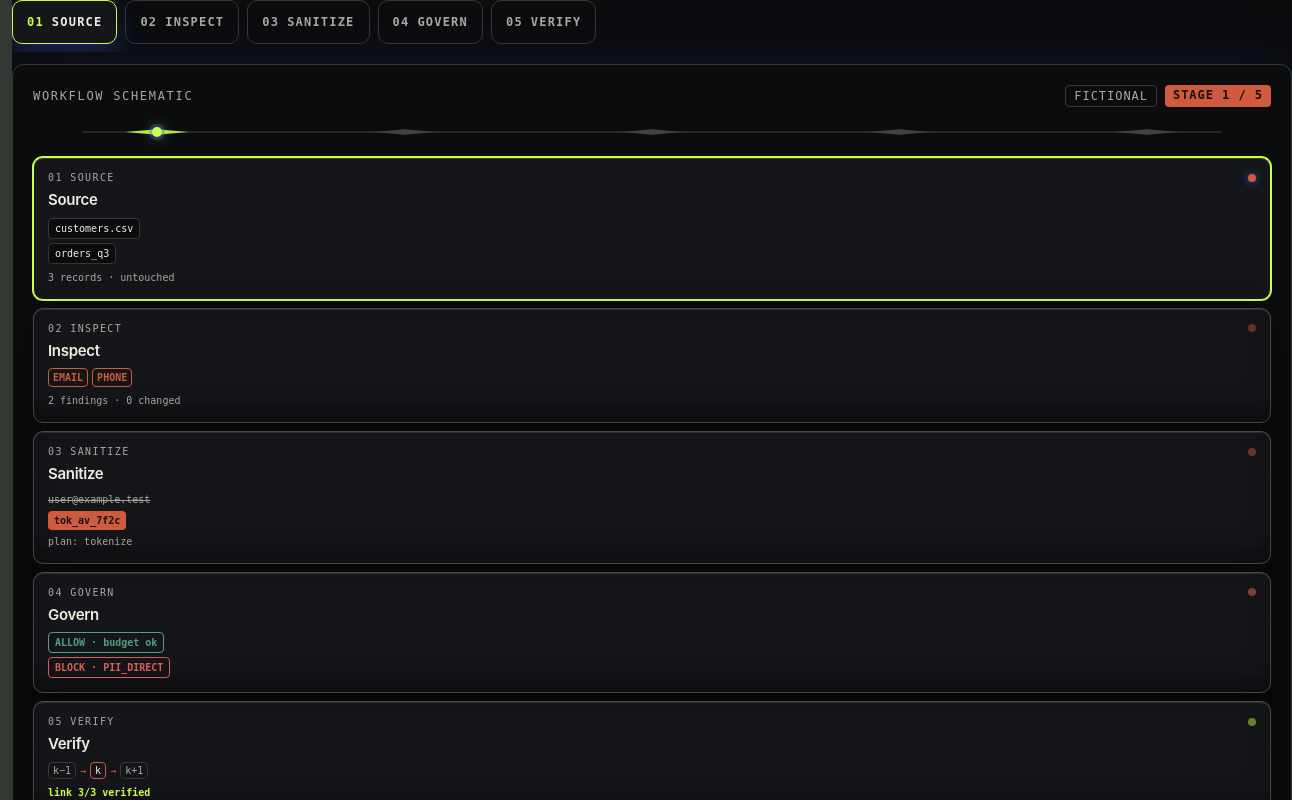
Scenario: workflow folding card (Phase 3G) › starts on Source and updates schematic plus explanation in place
The image size is (1292, 800).
Tapping a stage must not move the page.
Click the button with aria-label "stage 05" at (544,22), box [491, 0, 596, 44]
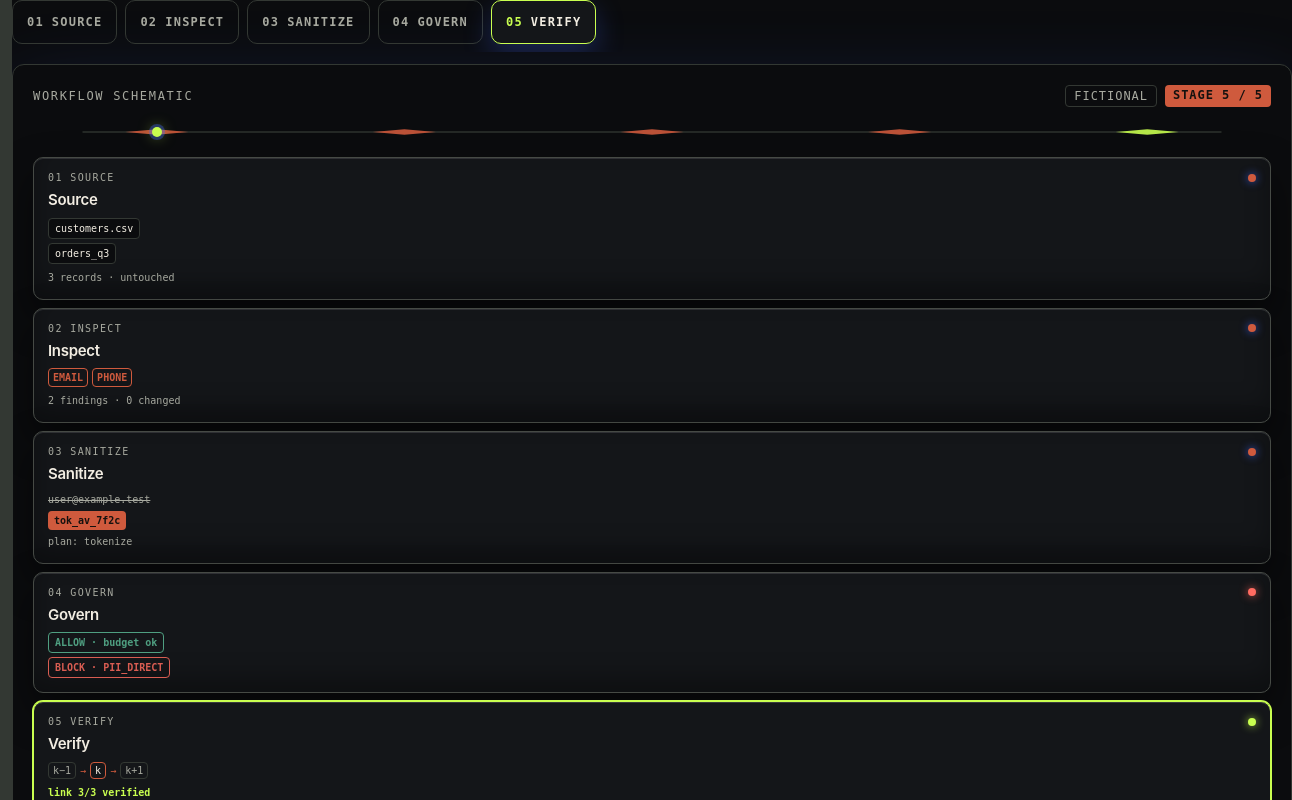
expect the text "link 3/3 verified" is shown: met, box [48, 786, 150, 798]
Click the button with aria-label "stage 03" at (308,22), box [247, 0, 370, 44]
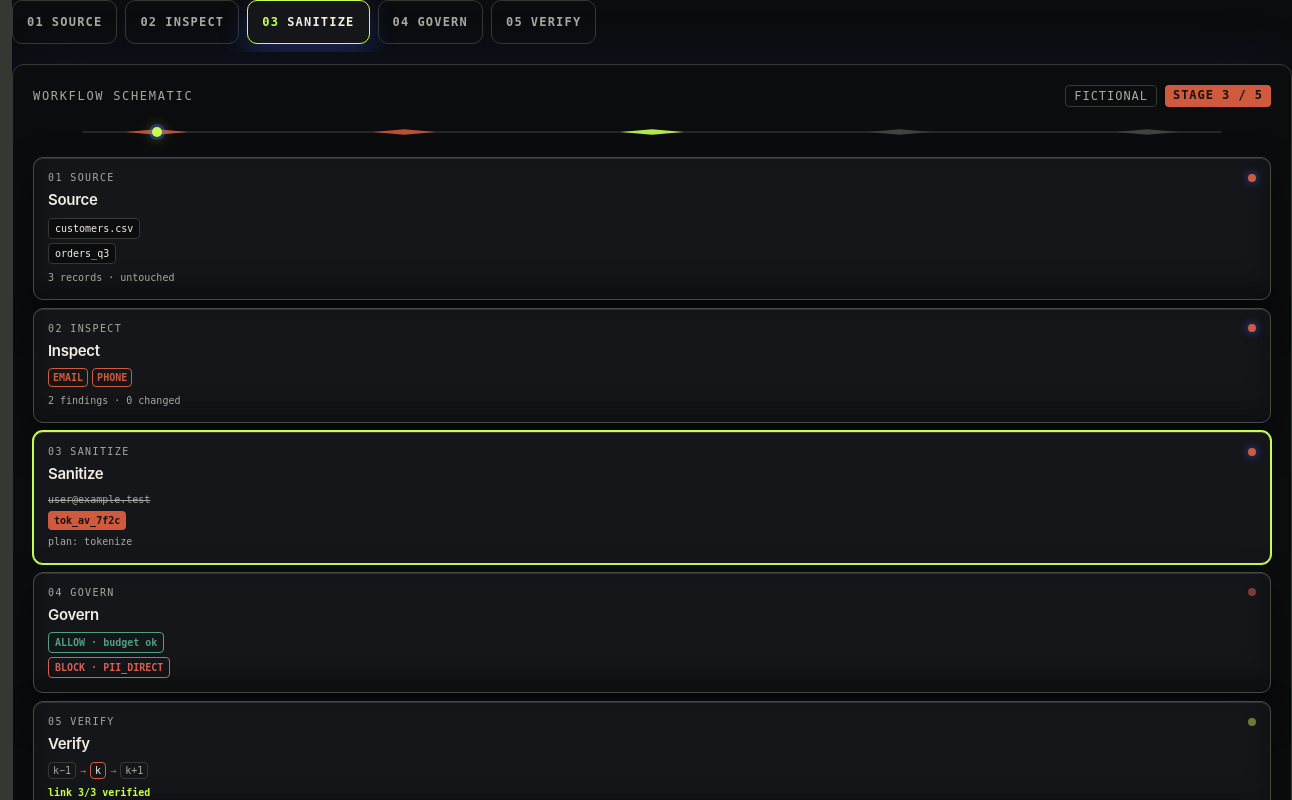
expect the text "tok_av_7f2c" is shown: met, box [48, 510, 126, 530]
Click the button with aria-label "stage 04" at (430,22), box [378, 0, 483, 44]
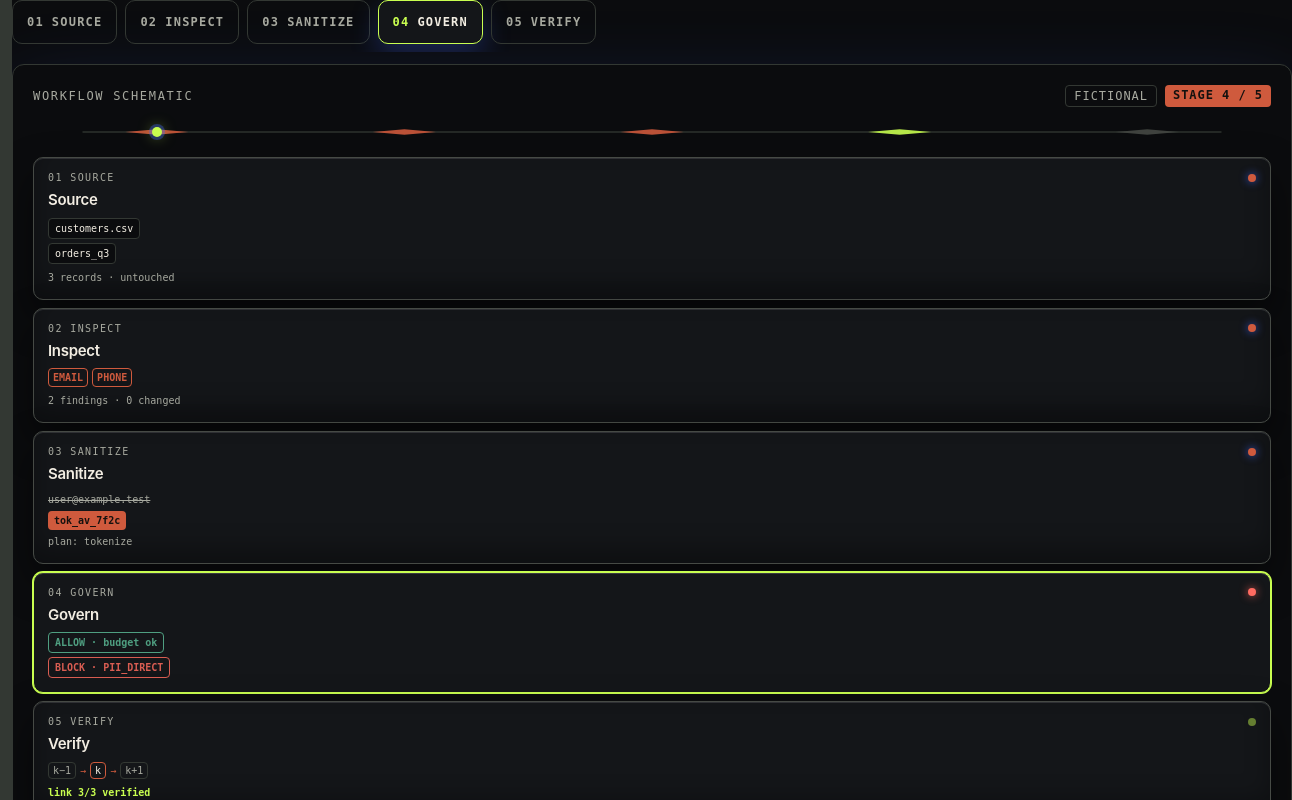
Click the button with aria-label "stage 02" at (182,22), box [125, 0, 239, 44]
(page scrolled)
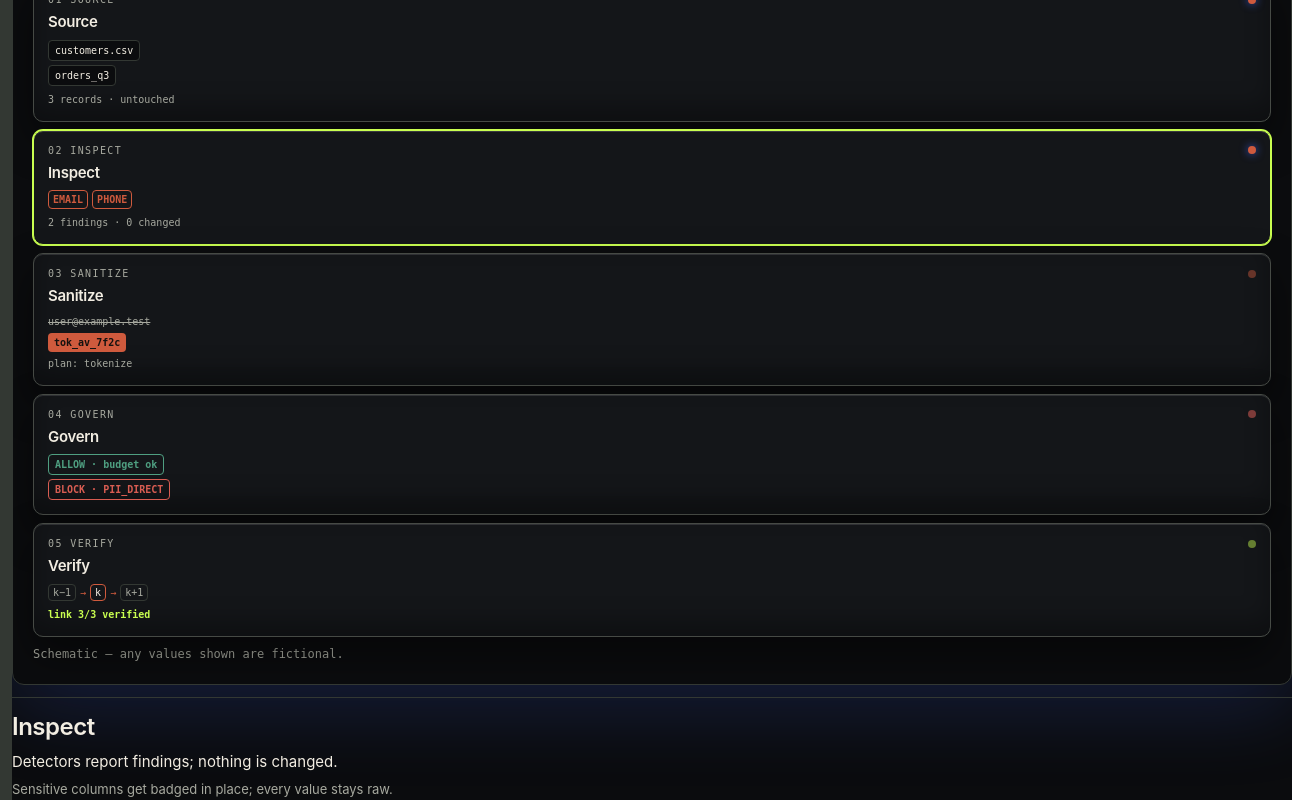
expect the heading "Inspect" is shown: met, box [12, 712, 95, 741]
